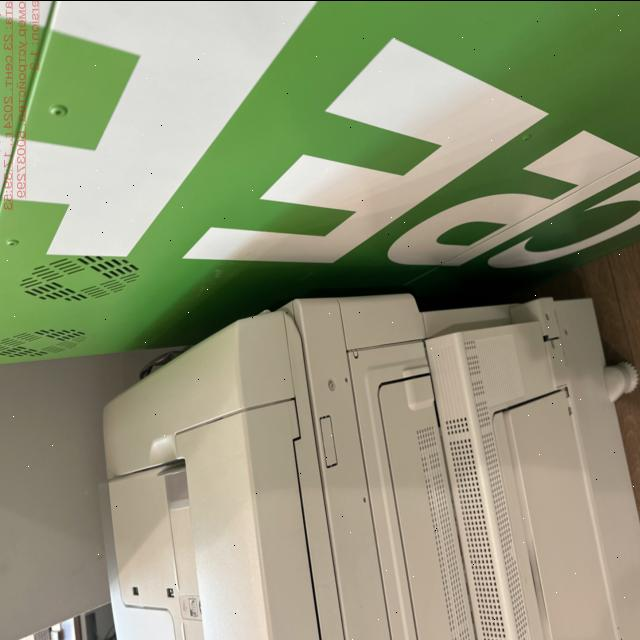bank: (0, 0, 640, 362)
